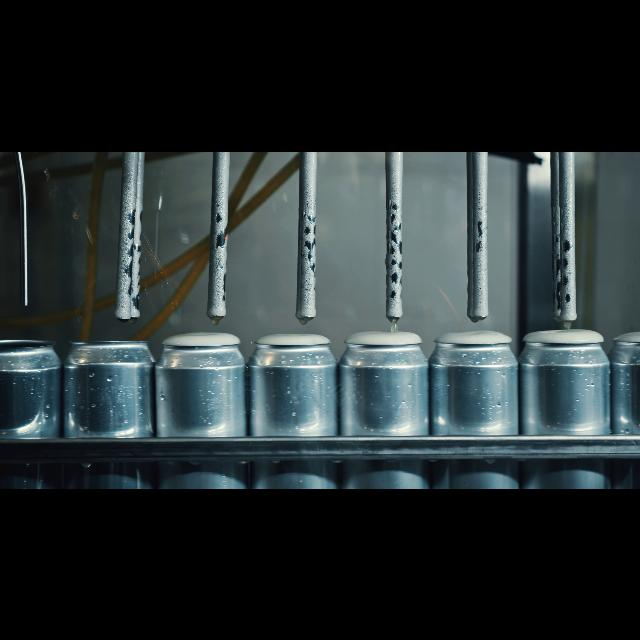empty: (64, 326, 152, 488), (0, 324, 56, 488)
full: (516, 320, 610, 488), (158, 318, 242, 488), (250, 324, 336, 488), (342, 318, 424, 488), (432, 322, 514, 488), (614, 324, 640, 488)
